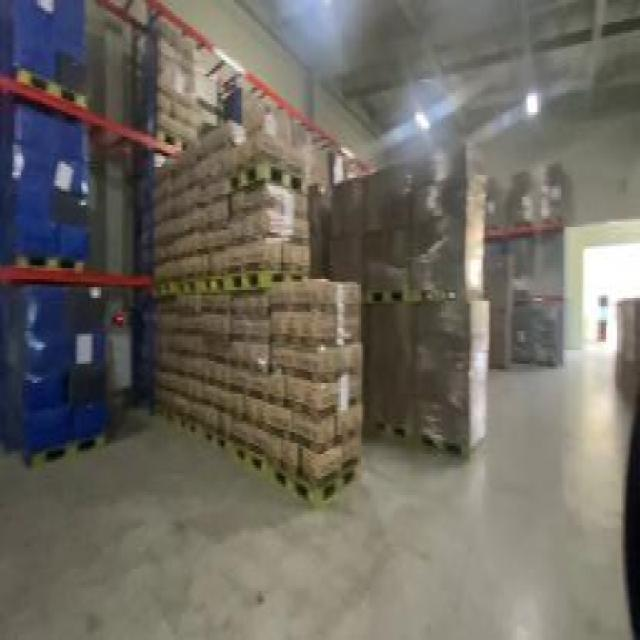box: (148, 132, 368, 512), (1, 2, 114, 468), (326, 150, 486, 465), (149, 25, 220, 162), (509, 287, 562, 372), (484, 246, 516, 372), (503, 161, 534, 227), (537, 156, 560, 227)
